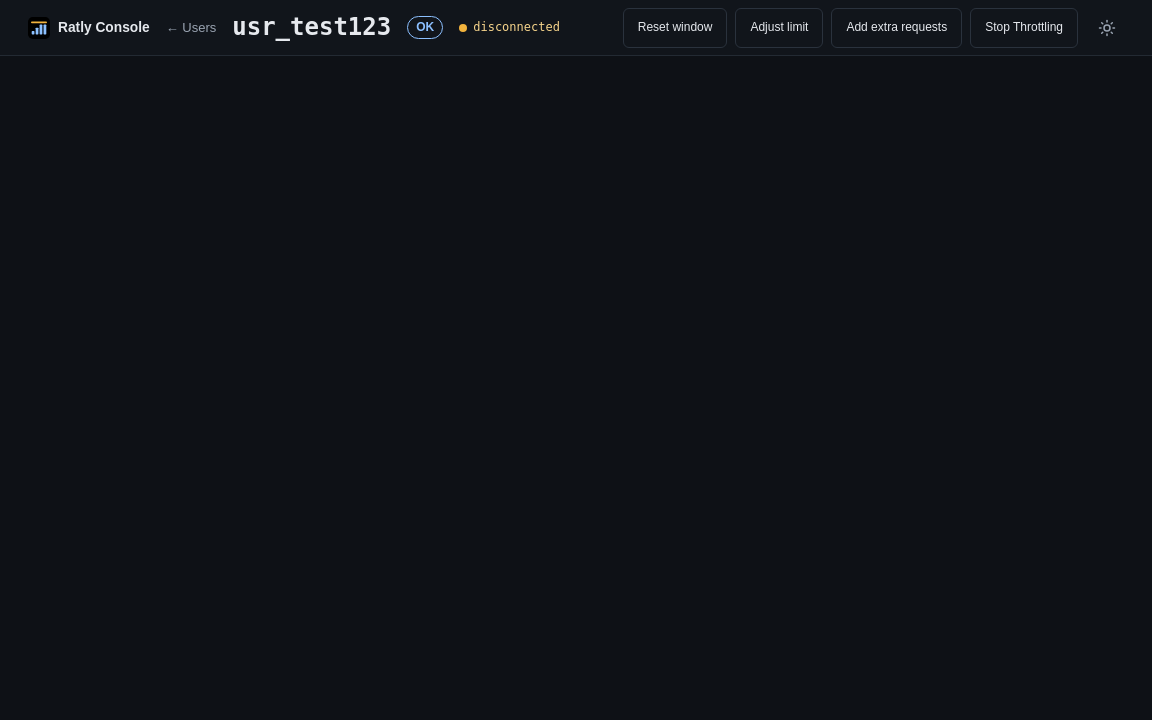
Scenario: UserDetailHeader › opens AdjustLimitModal when Adjust limit button clicked
Click the button "Adjust limit".
click(779, 28)  # box [735, 8, 823, 48]
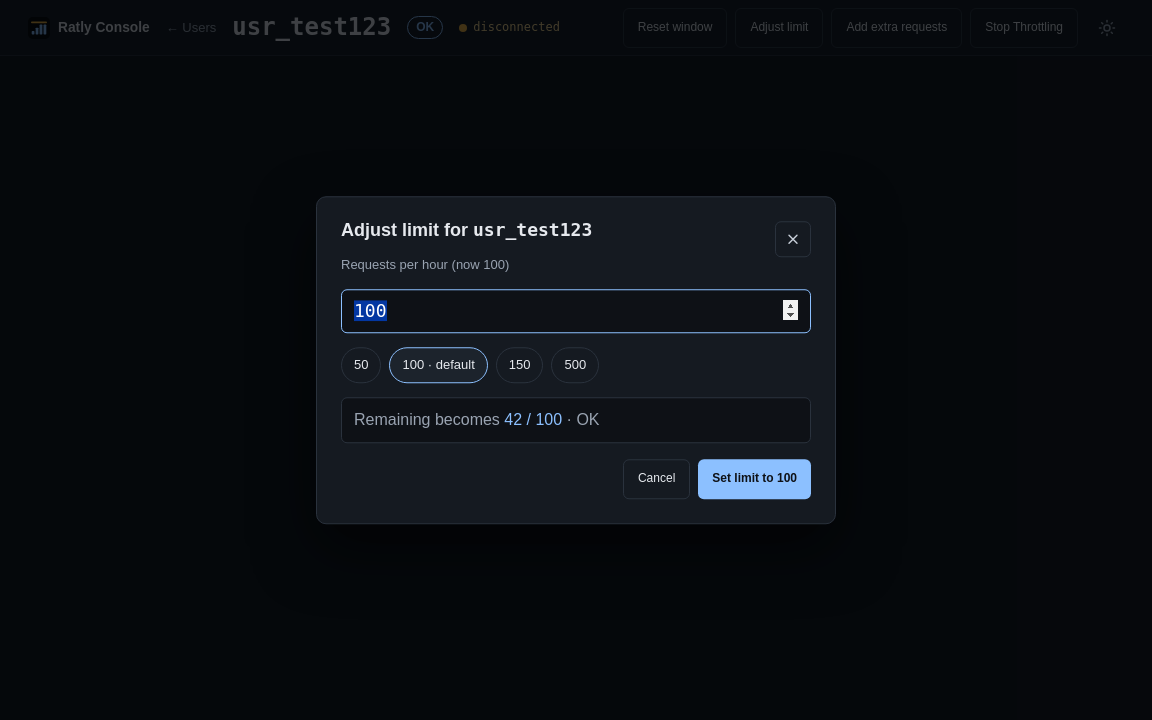
expect the heading with test id "modal-title" shows "Adjust limit for": met, box [341, 220, 468, 240]
